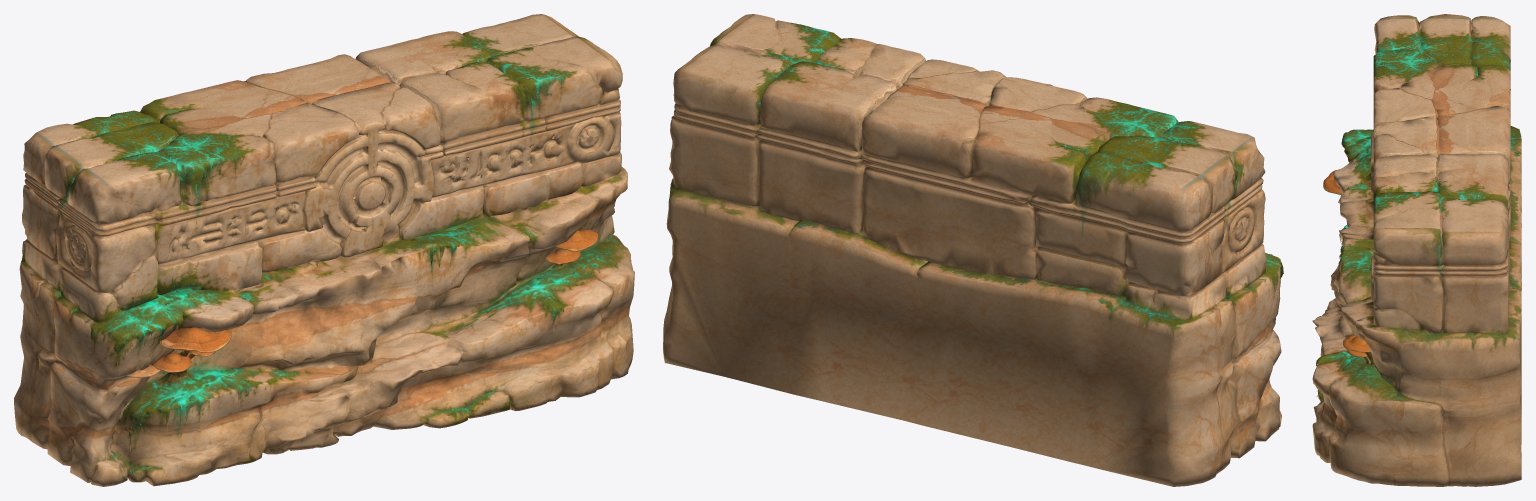
Rendered from citadel_cliff.fbx.
3 renders of one model, left to right at view 1: azimuth 30°, elevation 25°; view 2: azimuth 150°, elevation 25°; view 3: azimuth 270°, elevation 25°, orthographic. The views are drawn at different scales.
Visible parts, largest first — view 1: citadel_cliff; view 2: citadel_cliff; view 3: citadel_cliff.
Part boxes in pixels (<box>): citadel_cliff: <box>14,14,634,486</box>; citadel_cliff: <box>663,14,1283,486</box>; citadel_cliff: <box>1312,14,1521,486</box>.
Size of the model in its own units: 26 by 13.12 by 10.
